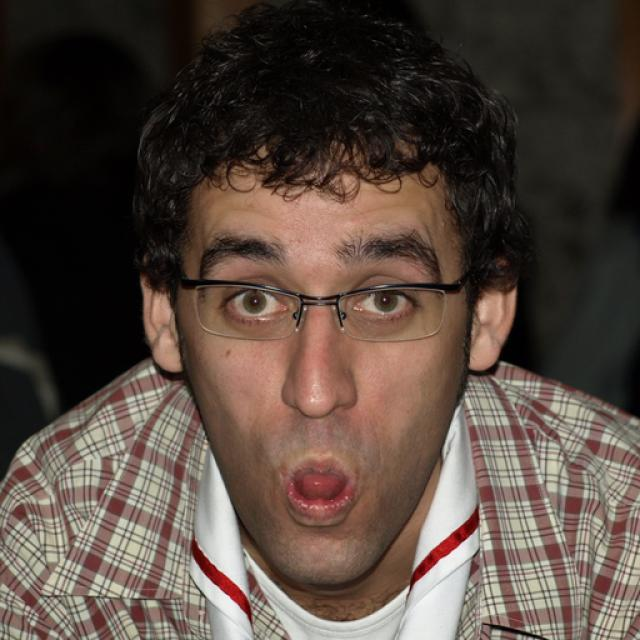surprise: (179, 146, 470, 586)
